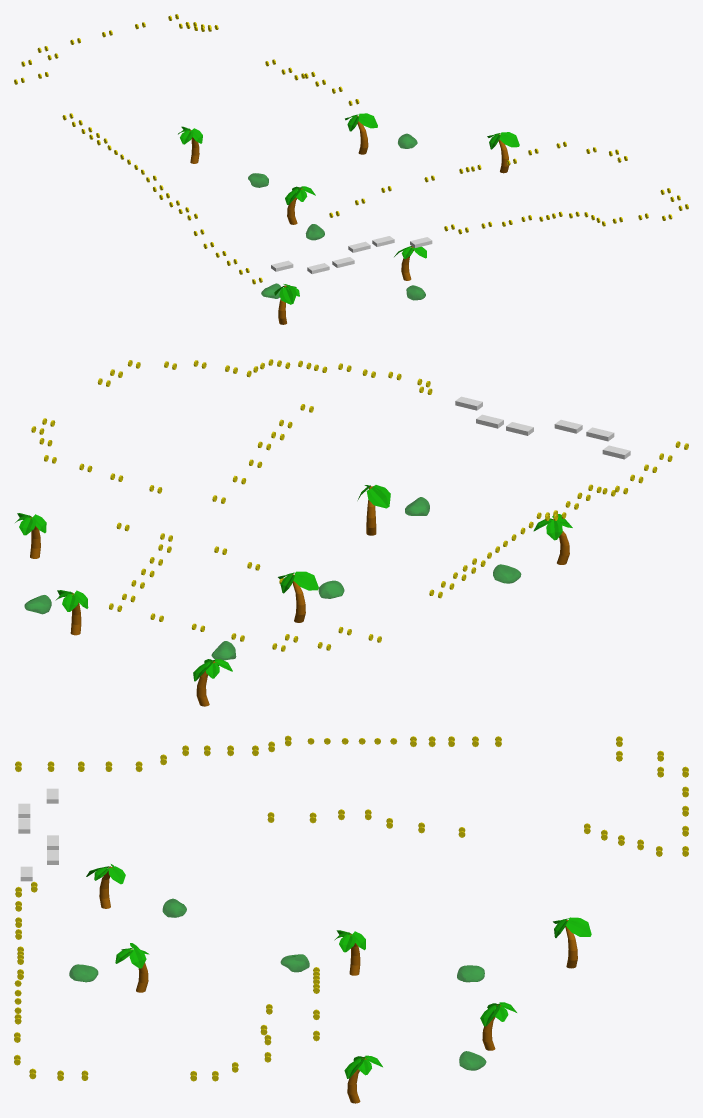
Rendered from parcours3.glb.
3 views of the same model, one above another, from view 1: azimuth 30°, elevation 25°; view 2: azimuth 150°, elevation 25°; view 3: azimuth 270°, elevation 25° (orthographic). The views are drawn at different scales.
Visible parts, largest first — view 1: feuille.001, feuille.005, feuille.006, feuille.004, feuille.002; view 2: feuille.004, feuille.003, feuille.002, feuille.006, feuille.005, feuille.001; view 3: feuille.002, feuille.005, feuille.001, feuille.006, feuille.004, feuille.003.
Part boxes in pixels (x1,y1,x2,y2): feuille.001: [345, 113, 377, 154]; feuille.005: [487, 132, 519, 173]; feuille.006: [274, 284, 299, 324]; feuille.004: [285, 186, 315, 224]; feuille.002: [178, 126, 202, 163]; feuille.004: [278, 571, 318, 622]; feuille.003: [357, 485, 390, 535]; feuille.002: [193, 659, 232, 706]; feuille.006: [533, 514, 572, 564]; feuille.005: [15, 513, 46, 558]; feuille.001: [55, 590, 88, 635]; feuille.002: [553, 917, 591, 968]; feuille.005: [344, 1055, 382, 1103]; feuille.001: [480, 1002, 516, 1050]; feuille.006: [86, 864, 125, 908]; feuille.004: [334, 930, 365, 975]; feuille.003: [115, 943, 149, 992].
Size of what is drawn, in the model's own units: 129 by 48.96 by 137.
